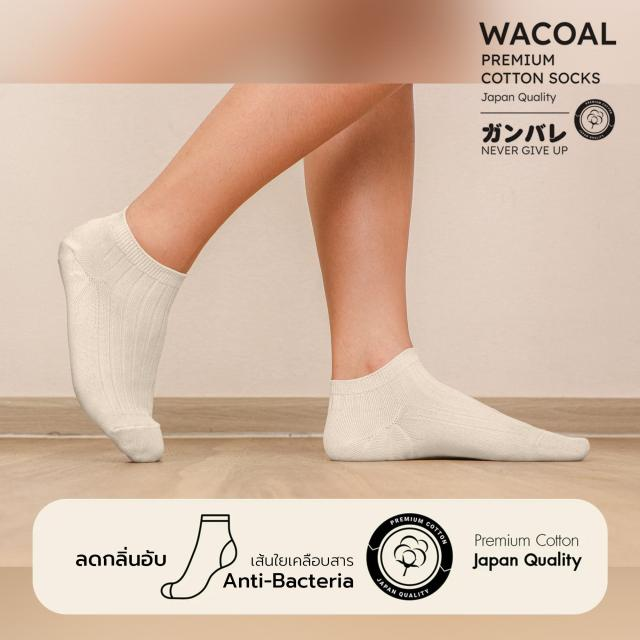sock: (57, 207, 187, 462), (322, 347, 590, 462)
